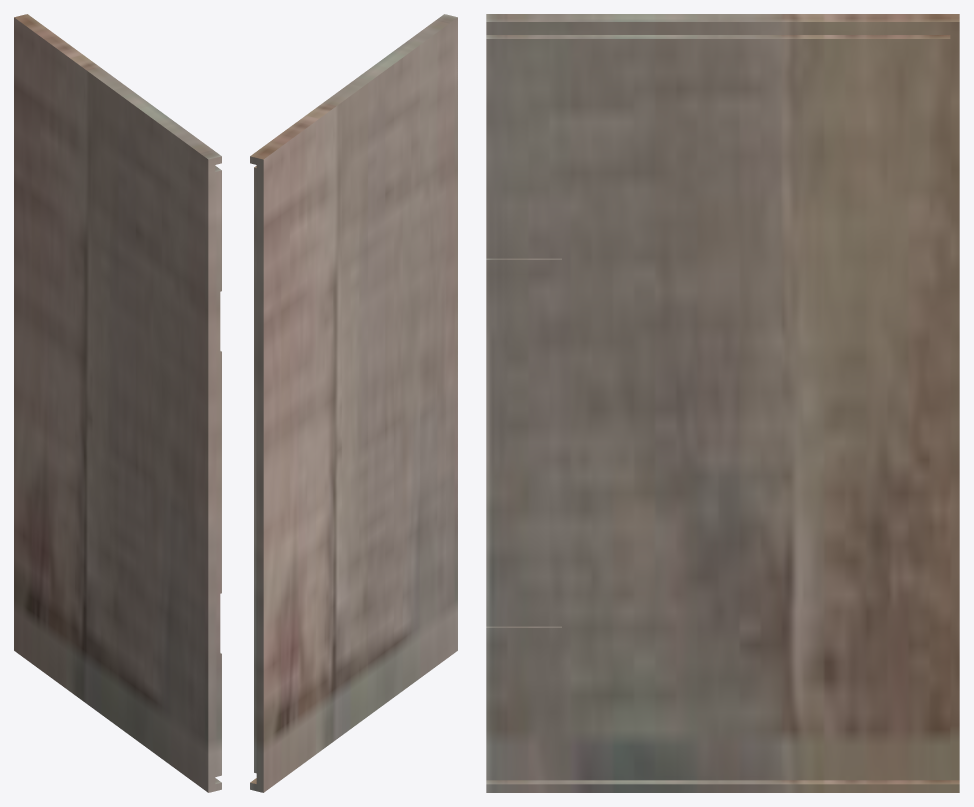
Rendered from original-39.obj.
3 views of the same model, side by side, from view 1: azimuth 30°, elevation 25°; view 2: azimuth 150°, elevation 25°; view 3: azimuth 270°, elevation 25° (orthographic). The views are drawn at different scales.
Parts seen in each view (by area): view 1: Cab_side_1_1/Cab_side_1/mesh60/mesh60-geometry#mesh60-geometry; view 2: Cab_side_1_1/Cab_side_1/mesh60/mesh60-geometry#mesh60-geometry; view 3: Cab_side_1_1/Cab_side_1/mesh60/mesh60-geometry#mesh60-geometry.
Part boxes in pixels (box(x1,y1,x2,y2)): Cab_side_1_1/Cab_side_1/mesh60/mesh60-geometry#mesh60-geometry: box(14, 14, 221, 792); Cab_side_1_1/Cab_side_1/mesh60/mesh60-geometry#mesh60-geometry: box(250, 14, 457, 792); Cab_side_1_1/Cab_side_1/mesh60/mesh60-geometry#mesh60-geometry: box(486, 14, 959, 792).
Size of the model in its own units: 0.0182 by 0.8172 by 0.4547.
